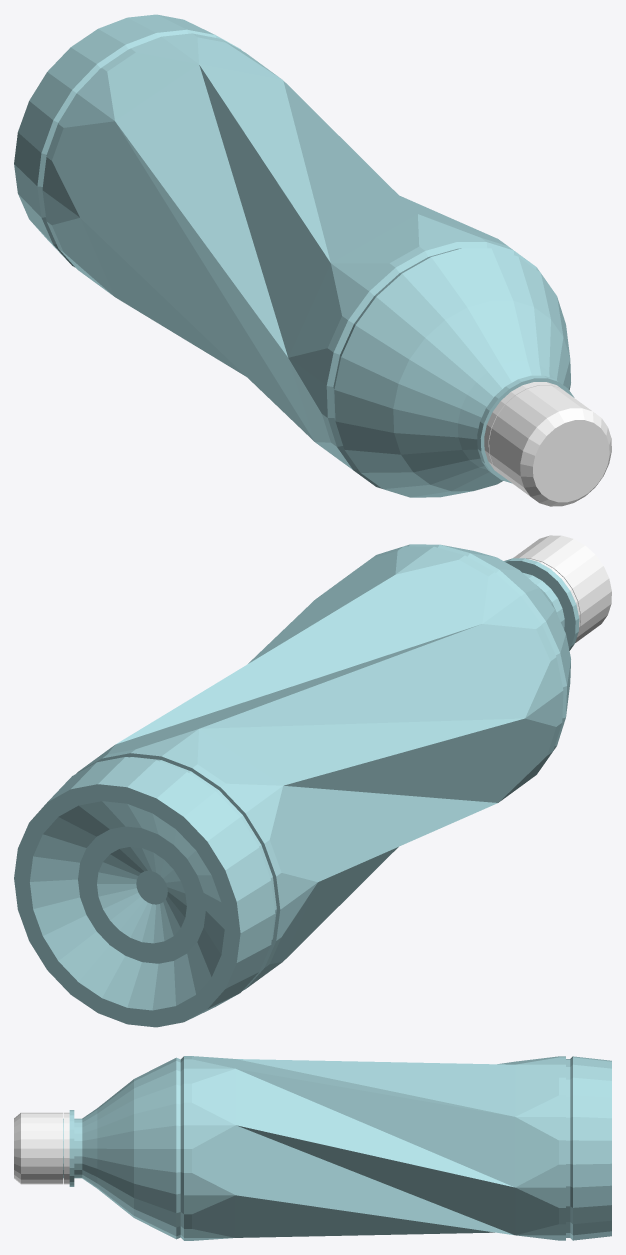
3 renders of one model, top to bottom at view 1: azimuth 30°, elevation 25°; view 2: azimuth 150°, elevation 25°; view 3: azimuth 270°, elevation 25°, orthographic. The views are drawn at different scales.
Visible parts, largest first — view 1: plastic bottle; view 2: plastic bottle; view 3: plastic bottle.
Part boxes in pixels (<box>): plastic bottle: <box>14,14,611,506</box>; plastic bottle: <box>14,535,611,1027</box>; plastic bottle: <box>14,1056,611,1240</box>.
Size of the model in its own units: 155 by 155 by 501.
